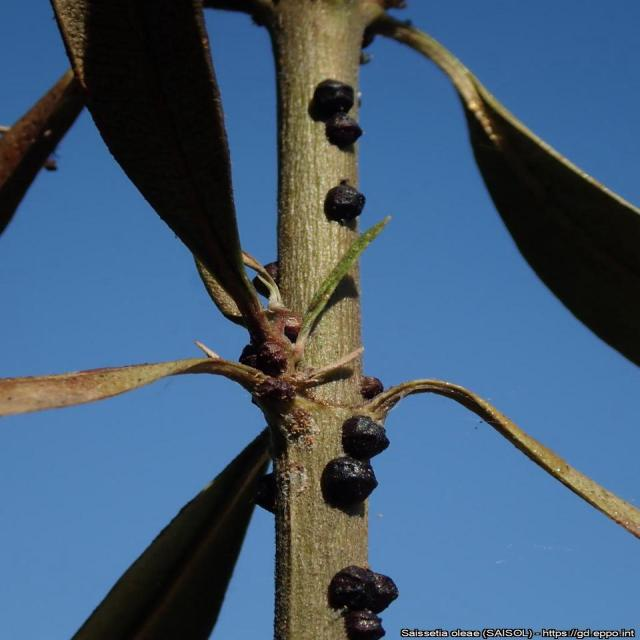Black Scale: (321, 416, 389, 513), (328, 566, 398, 640), (309, 80, 362, 151), (323, 179, 365, 228), (239, 341, 288, 378), (248, 377, 297, 409), (360, 376, 384, 400)
